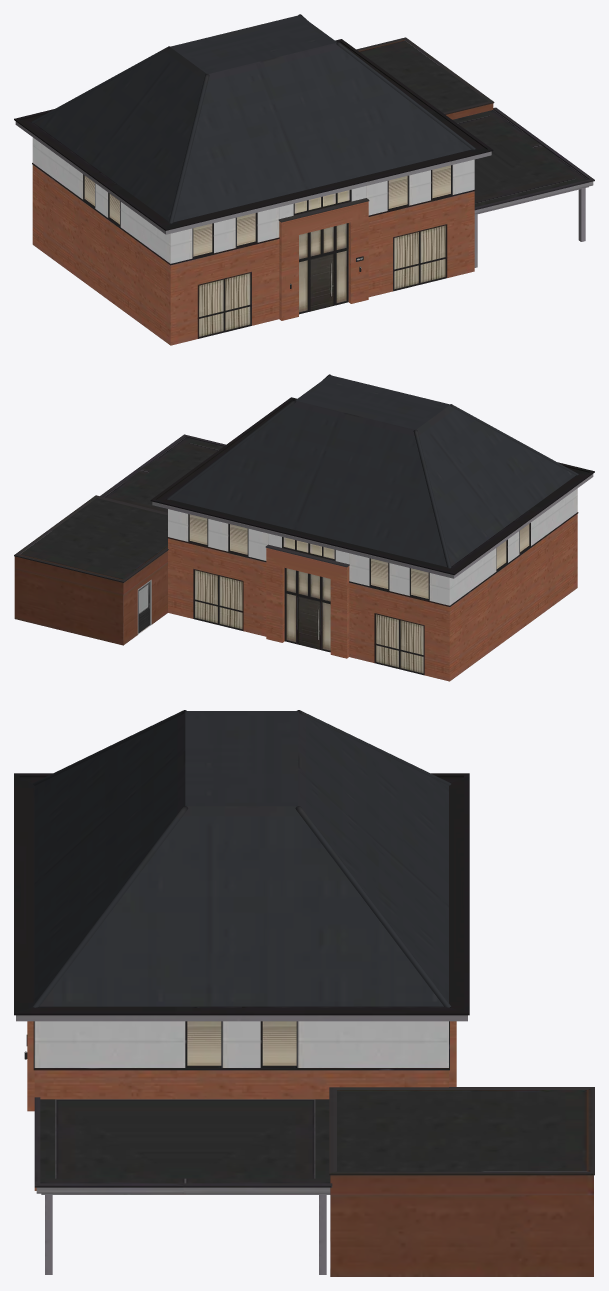
File: house-b.glb
The picture shows the model from 3 angles, top to bottom: view 1: azimuth 30°, elevation 25°; view 2: azimuth 150°, elevation 25°; view 3: azimuth 270°, elevation 25°; orthographic projection. The views are drawn at different scales.
Visible parts, largest first — view 1: ROOF_HOUSE_ROOF_0, HOUSE_BASE_HOUSE_MATERIAL_0, AWNING_GARAGE_MATERIAL_0; view 2: ROOF_HOUSE_ROOF_0, HOUSE_BASE_HOUSE_MATERIAL_0, AWNING_GARAGE_MATERIAL_0; view 3: ROOF_HOUSE_ROOF_0, AWNING_GARAGE_MATERIAL_0, HOUSE_BASE_HOUSE_MATERIAL_0.
Boxes of the visible parts, <box> form: ROOF_HOUSE_ROOF_0: <box>14,14,493,234</box>; HOUSE_BASE_HOUSE_MATERIAL_0: <box>32,137,475,345</box>; AWNING_GARAGE_MATERIAL_0: <box>356,37,594,267</box>; ROOF_HOUSE_ROOF_0: <box>150,374,594,578</box>; HOUSE_BASE_HOUSE_MATERIAL_0: <box>167,488,578,681</box>; AWNING_GARAGE_MATERIAL_0: <box>14,434,225,645</box>; ROOF_HOUSE_ROOF_0: <box>14,710,469,1021</box>; AWNING_GARAGE_MATERIAL_0: <box>34,1087,594,1276</box>; HOUSE_BASE_HOUSE_MATERIAL_0: <box>24,1021,456,1190</box>.
Bounding box in the file's own units: 20.1 × 9.41 × 15.43.
Materials: 3 (3 with a texture image).
